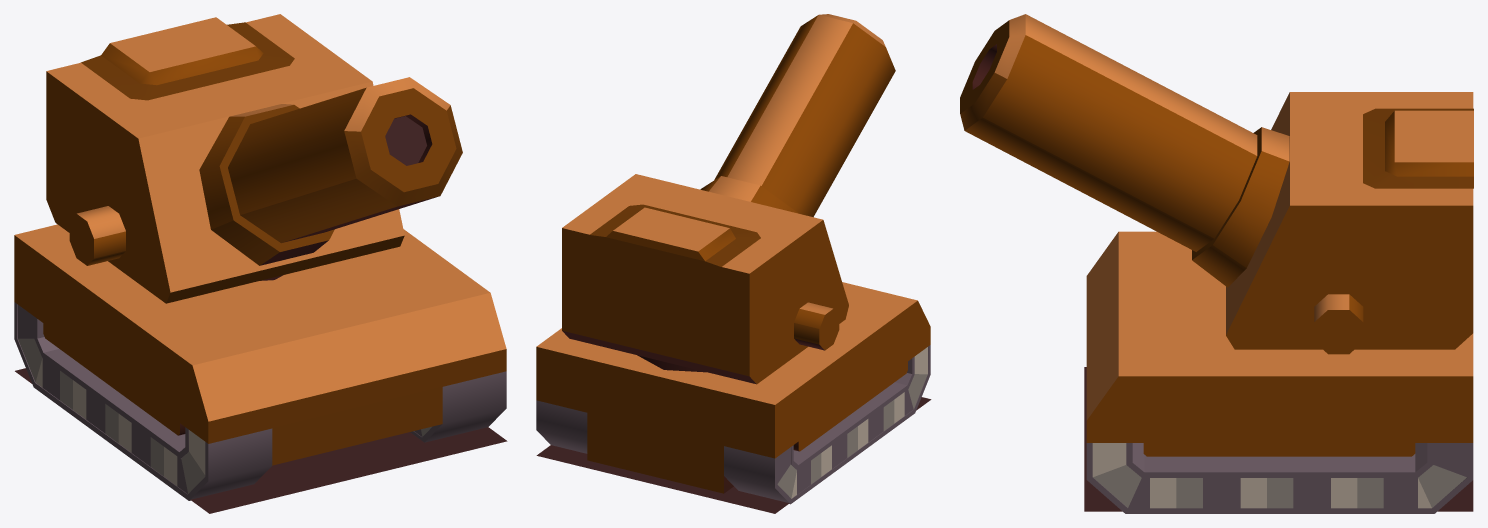
Rendered from ArtillertyMesh.UmberWilds.glb.
3 views of the same model, side by side, from view 1: azimuth 30°, elevation 25°; view 2: azimuth 150°, elevation 25°; view 3: azimuth 270°, elevation 25° (orthographic). The views are drawn at different scales.
Visible parts, largest first — view 1: ArtillertyMesh.UmberWilds; view 2: ArtillertyMesh.UmberWilds; view 3: ArtillertyMesh.UmberWilds.
Part boxes in pixels (x1,y1,x2,y2): ArtillertyMesh.UmberWilds: (14, 14, 507, 513); ArtillertyMesh.UmberWilds: (536, 14, 931, 513); ArtillertyMesh.UmberWilds: (960, 14, 1473, 513).
Bounding box in the file's own units: 1.4 × 1.88 × 2.1.
Materials: 1 (1 with a texture image).
